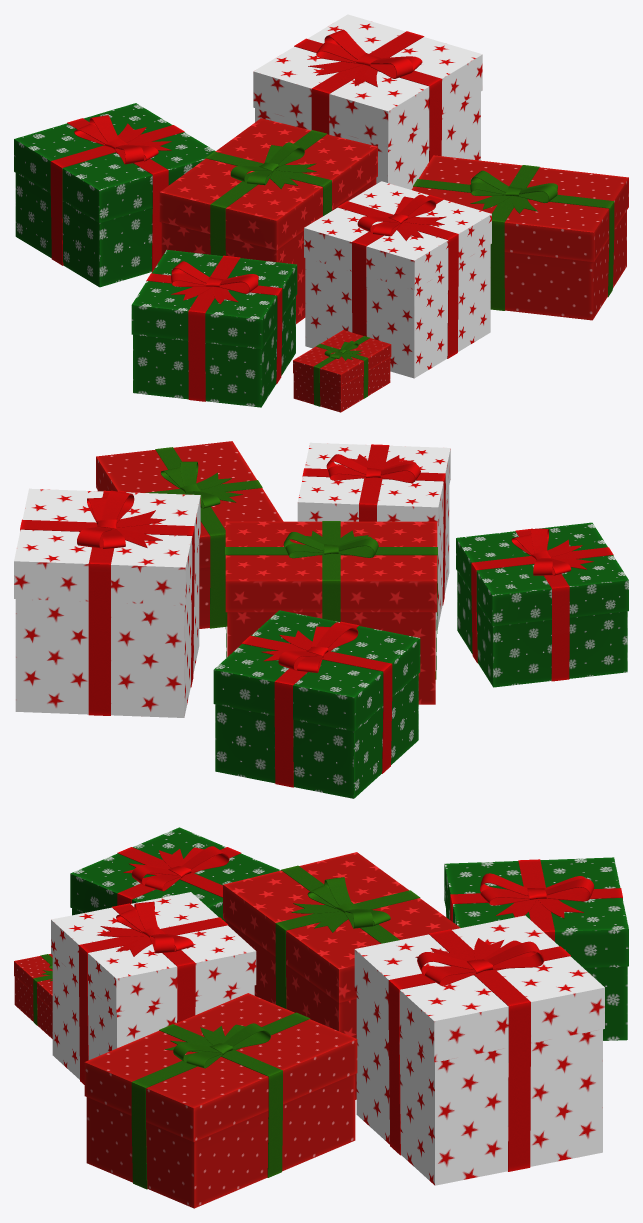
The model's file is game_ready__free_christmas_gifts.glb.
The picture shows the model from 3 angles, top to bottom: view 1: azimuth 30°, elevation 25°; view 2: azimuth 150°, elevation 25°; view 3: azimuth 270°, elevation 25°; orthographic projection. The views are drawn at different scales.
Parts seen in each view (by area): view 1: Christmas_Gift_Extra, Christmas_Gift_01_Christmas_Gifts_0, Christmas_Gift_04_Christmas_Gifts_0, Christmas_Gift_02_Christmas_Gifts_0, Christmas_Gift_03_Christmas_Gifts_0; view 2: Christmas_Gift_Extra, Christmas_Gift_02_Christmas_Gifts_0, Christmas_Gift_03_Christmas_Gifts_0, Christmas_Gift_01_Christmas_Gifts_0, Christmas_Gift_04_Christmas_Gifts_0; view 3: Christmas_Gift_Extra, Christmas_Gift_04_Christmas_Gifts_0, Christmas_Gift_01_Christmas_Gifts_0, Christmas_Gift_03_Christmas_Gifts_0, Christmas_Gift_02_Christmas_Gifts_0.
Boxes of the visible parts, bbox=[...] form: Christmas_Gift_Extra: bbox=[14, 14, 482, 412]; Christmas_Gift_01_Christmas_Gifts_0: bbox=[304, 181, 491, 378]; Christmas_Gift_04_Christmas_Gifts_0: bbox=[411, 155, 628, 320]; Christmas_Gift_02_Christmas_Gifts_0: bbox=[131, 250, 297, 407]; Christmas_Gift_03_Christmas_Gifts_0: bbox=[159, 118, 377, 323]; Christmas_Gift_Extra: bbox=[14, 488, 420, 798]; Christmas_Gift_02_Christmas_Gifts_0: bbox=[456, 522, 628, 687]; Christmas_Gift_03_Christmas_Gifts_0: bbox=[225, 521, 437, 704]; Christmas_Gift_01_Christmas_Gifts_0: bbox=[297, 442, 450, 630]; Christmas_Gift_04_Christmas_Gifts_0: bbox=[96, 441, 283, 628]; Christmas_Gift_Extra: bbox=[14, 857, 628, 1185]; Christmas_Gift_04_Christmas_Gifts_0: bbox=[84, 993, 357, 1208]; Christmas_Gift_01_Christmas_Gifts_0: bbox=[51, 892, 256, 1084]; Christmas_Gift_03_Christmas_Gifts_0: bbox=[223, 852, 460, 1099]; Christmas_Gift_02_Christmas_Gifts_0: bbox=[70, 827, 280, 921].
Size of the model in its own units: 1.33 by 0.4053 by 1.23.
1 material, 1 textured.
